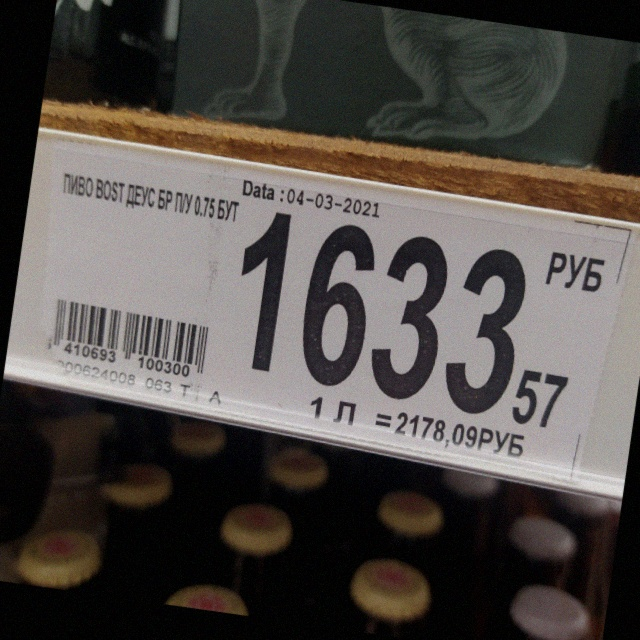barcode: (48, 297, 209, 378)
name: (62, 171, 241, 223)
price: (241, 210, 570, 431)
price_tag: (48, 146, 630, 482)
